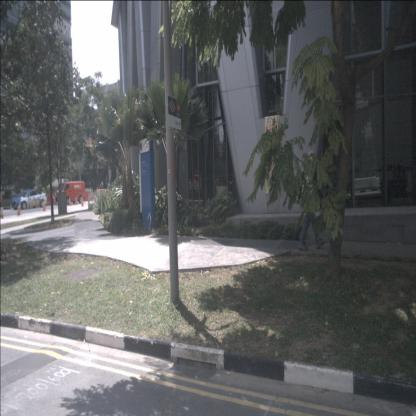movable_object-trafficcone: (0, 206, 4, 219), (43, 200, 46, 212), (81, 197, 84, 207), (69, 196, 72, 206), (75, 196, 78, 205), (18, 204, 20, 215), (19, 202, 21, 211), (54, 196, 56, 205), (81, 196, 83, 204), (88, 196, 90, 204)
vehicle-car: (11, 188, 47, 210), (55, 181, 85, 205)
